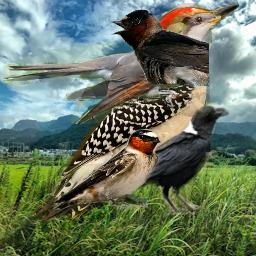Crow: (99, 101, 232, 217)
Cuckoo: (3, 12, 221, 124)
Swallow: (52, 128, 162, 210), (110, 9, 209, 87)
Woodpecker: (29, 3, 239, 228)
